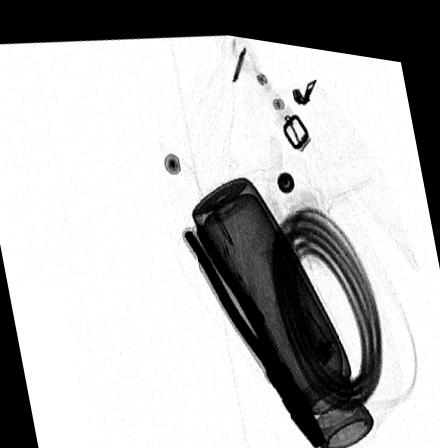Pliers: (182, 216, 328, 438)
